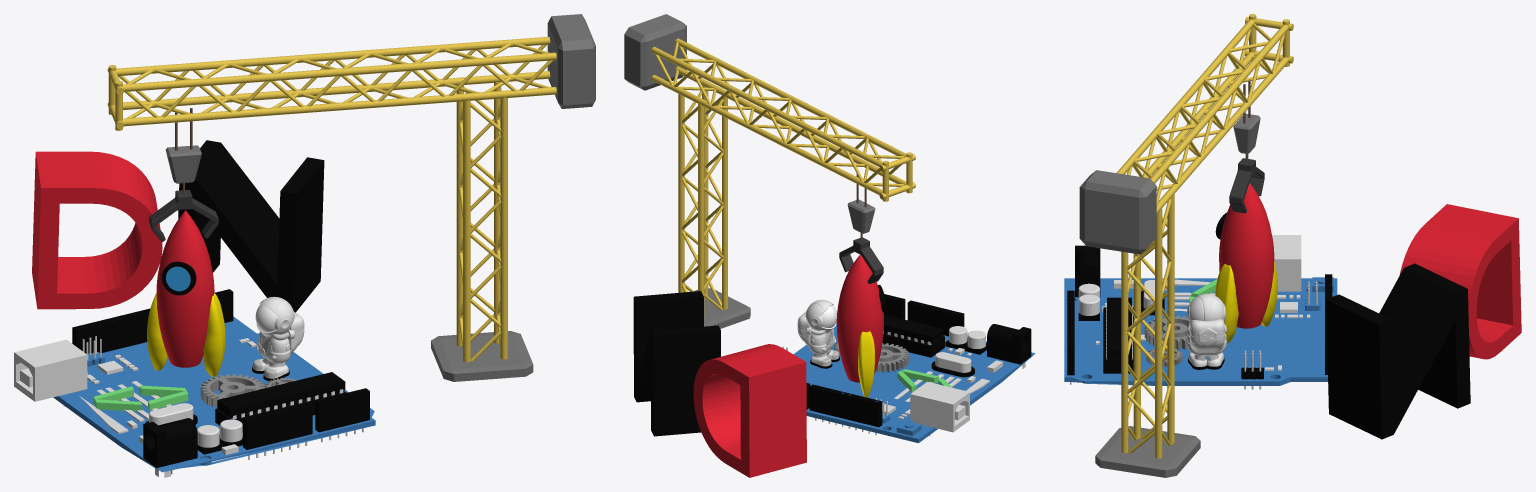
Rendered from altcv.glb.
The picture shows the model from 3 angles, left to right: view 1: azimuth 30°, elevation 25°; view 2: azimuth 150°, elevation 25°; view 3: azimuth 270°, elevation 25°; orthographic projection. The views are drawn at different scales.
Visible parts, largest first — view 1: Arduino_STL, D, N, Cylinder, Cube.002, Cylinder.038, Cube.001, Cylinder.039, Cylinder.040, Astronaut_Phil_A_Ment, Cylinder.041, Cube (+10 smaller); view 2: Arduino_STL, D, N, Cylinder, Cube.002, Astronaut_Phil_A_Ment, Cylinder.040, Cylinder.041, Cylinder.038, Cylinder.004, Cylinder.005, Cylinder.039 (+8 smaller); view 3: Arduino_STL, N, D, Cube.002, Cylinder, Cube.001, Astronaut_Phil_A_Ment, Cylinder.005, Cylinder.004, Cylinder.040, Cylinder.003, Cube (+7 smaller).
Part boxes in pixels (x1,y1,x2,y2): Arduino_STL: (14,289,375,477); D: (32,151,162,309); N: (178,140,324,312); Cylinder: (156,210,214,367); Cube.002: (547,14,595,108); Cylinder.038: (122,52,556,91); Cube.001: (431,331,533,381); Cylinder.039: (122,87,556,126); Cylinder.040: (116,36,550,76); Astronaut_Phil_A_Ment: (252,296,304,381); Cylinder.041: (123,71,550,109); Cube: (147,293,225,376); Arduino_STL: (782,294,1035,443); D: (693,344,806,477); N: (633,291,720,436); Cylinder: (836,254,883,382); Cube.002: (624,14,686,90); Astronaut_Phil_A_Ment: (797,299,839,368); Cylinder.040: (651,47,882,167); Cylinder.041: (651,75,882,195); Cylinder.038: (675,38,906,156); Cylinder.004: (698,103,704,316); Cylinder.005: (678,93,684,292); Cylinder.039: (675,66,906,184); Arduino_STL: (1064,235,1337,389); N: (1326,263,1470,439); D: (1399,204,1521,359); Cube.002: (1079,170,1156,254); Cylinder: (1219,183,1274,328); Cube.001: (1095,426,1200,477); Astronaut_Phil_A_Ment: (1186,293,1226,369); Cylinder.005: (1155,208,1162,458); Cylinder.004: (1167,194,1174,444); Cylinder.040: (1150,24,1288,183); Cylinder.003: (1121,251,1128,453); Cube: (1215,261,1277,342).
Bounding box in the file's own units: 4.38 × 2.84 × 3.76.
